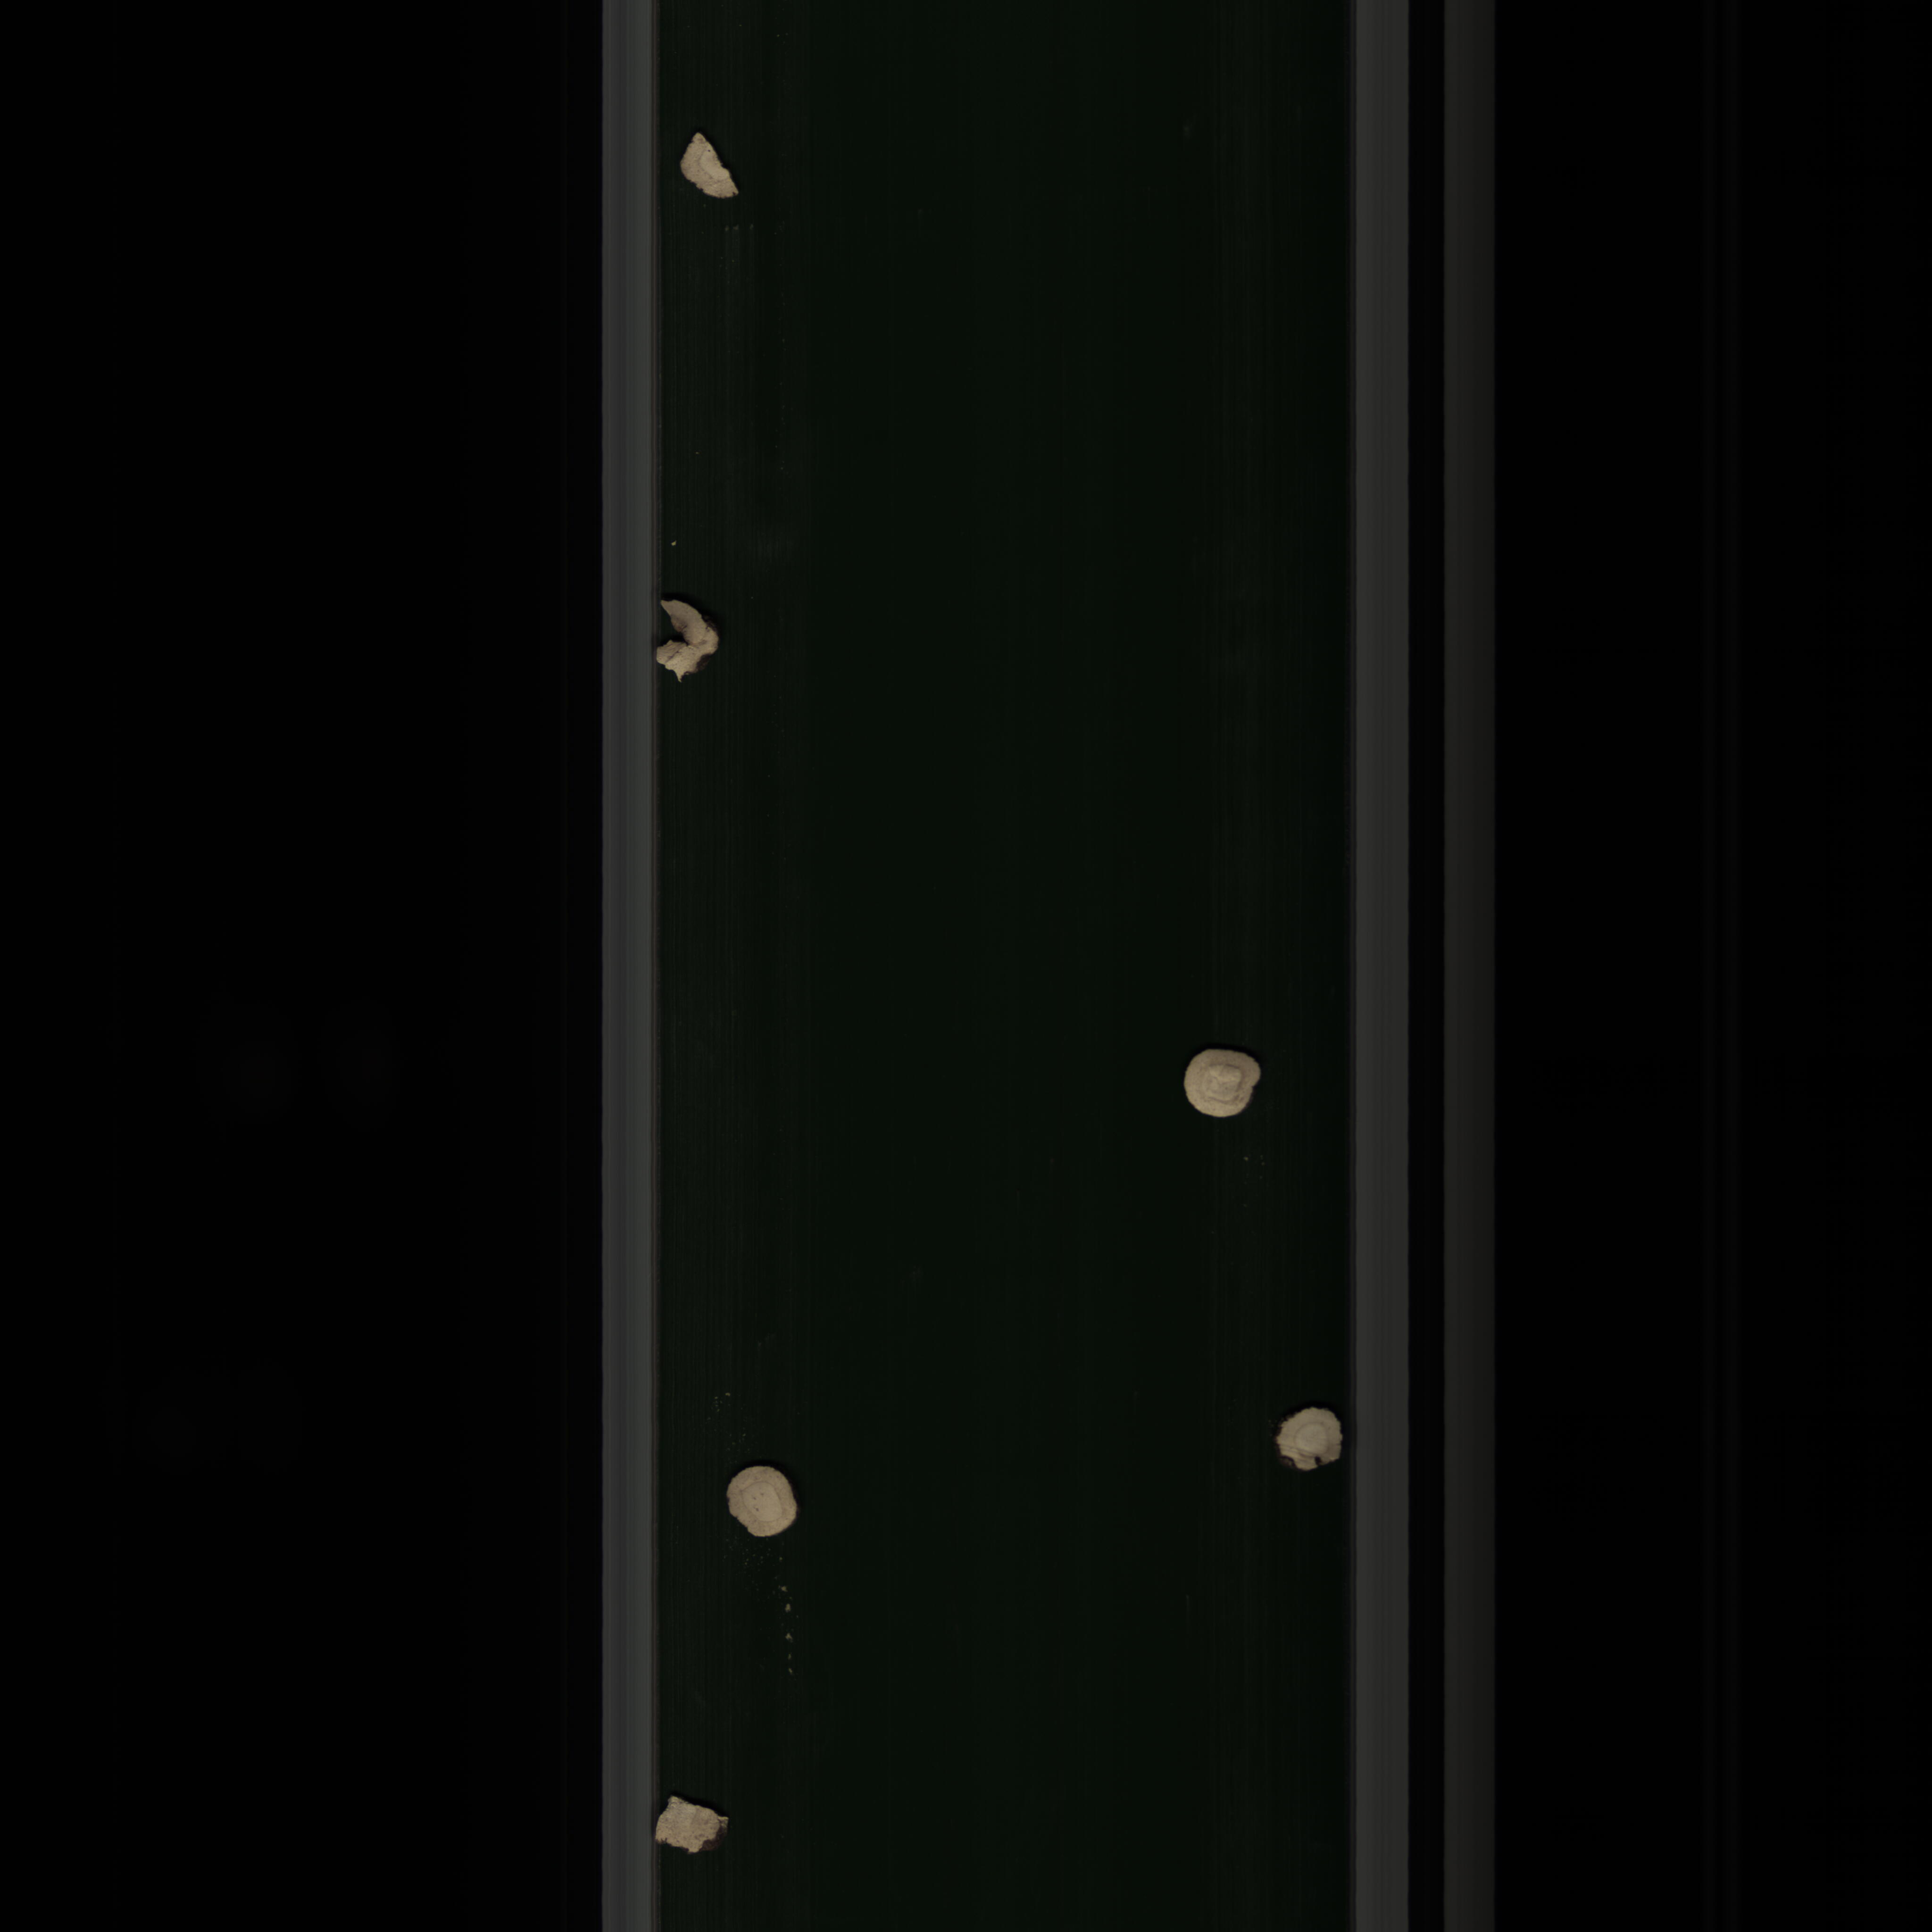debris: (648, 1787, 752, 1868), (674, 122, 748, 203)
moldy: (656, 591, 734, 690)
